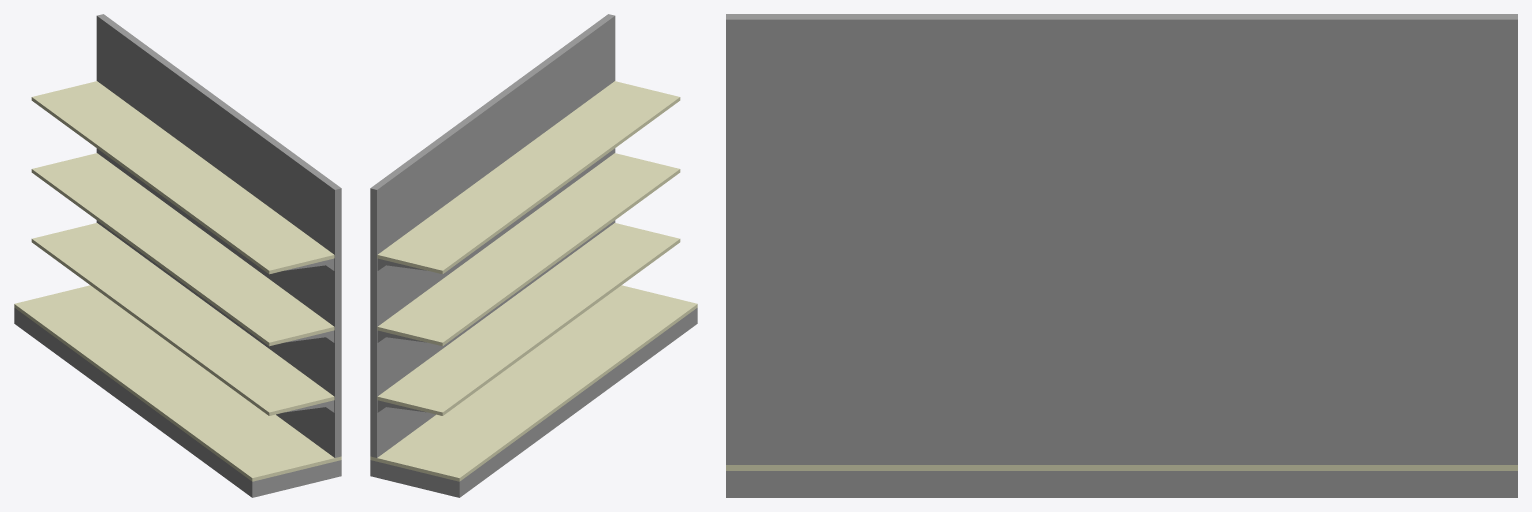
The model's file is shelf3Mhalf.fbx.
3 views of the same model, side by side, from view 1: azimuth 30°, elevation 25°; view 2: azimuth 150°, elevation 25°; view 3: azimuth 270°, elevation 25° (orthographic). The views are drawn at different scales.
Parts seen in each view (by area): view 1: back, floor1, floor2, floor4, floor3, foundation1; view 2: back, floor1, floor2, floor4, floor3, foundation1; view 3: back, foundation1, floor1.
Part boxes in pixels (<box>): back: <box>96,14,341,457</box>; floor1: <box>14,285,341,481</box>; floor2: <box>31,223,334,415</box>; floor4: <box>31,81,334,274</box>; floor3: <box>31,153,334,346</box>; foundation1: <box>14,308,341,497</box>; back: <box>370,14,615,457</box>; floor1: <box>370,285,697,481</box>; floor2: <box>377,223,680,415</box>; floor4: <box>377,81,680,274</box>; floor3: <box>377,153,680,346</box>; foundation1: <box>370,308,697,497</box>; back: <box>726,14,1517,464</box>; foundation1: <box>726,471,1517,497</box>; floor1: <box>726,465,1517,470</box>.
Size of the model in its own units: 130 by 400 by 600.
